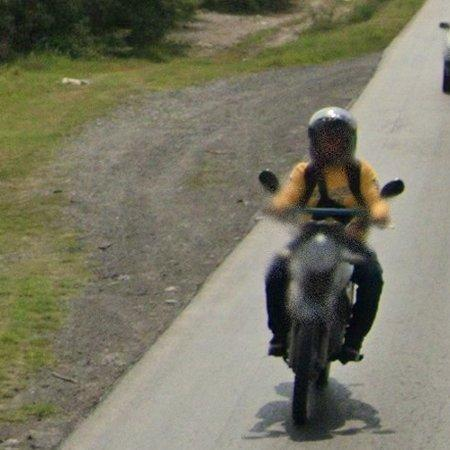motorcycles: (280, 209, 373, 427)
